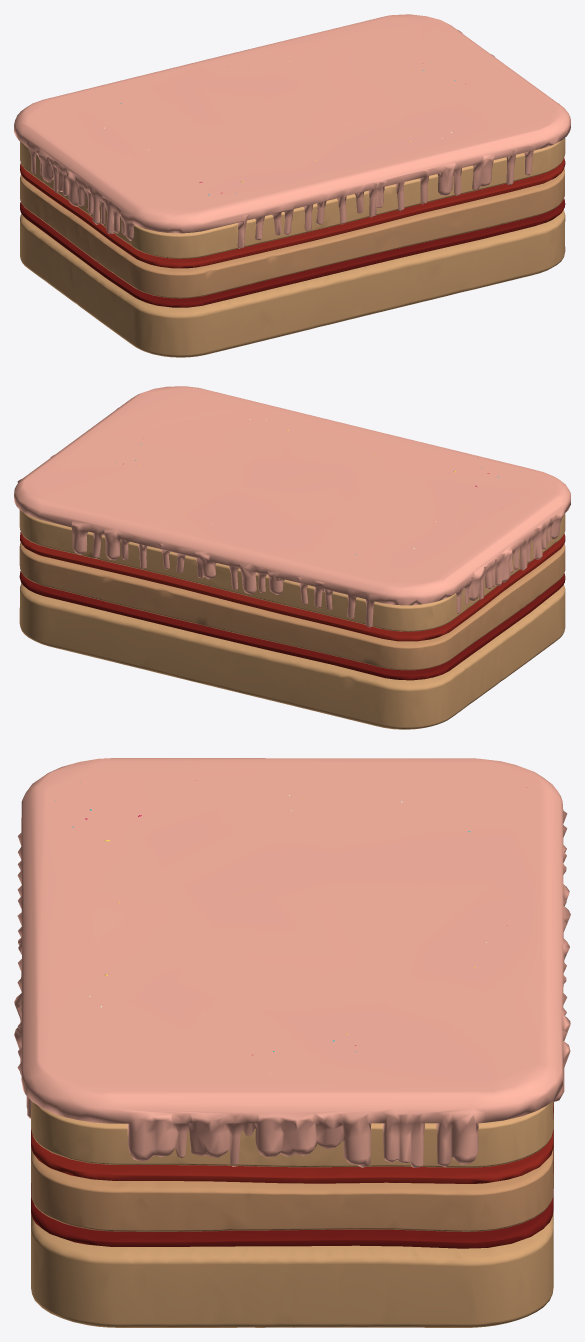
The model's file is cake-mesa-shelf.glb.
3 renders of one model, top to bottom at view 1: azimuth 30°, elevation 25°; view 2: azimuth 150°, elevation 25°; view 3: azimuth 270°, elevation 25°, orthographic. The views are drawn at different scales.
Parts seen in each view (by area): view 1: Rounded poured strawberry frosting.001, Golden sponge bottom.001, Golden sponge lower.001, Golden sponge upper.001, Raspberry jam deep.001, Raspberry jam ribbon.001; view 2: Rounded poured strawberry frosting.001, Golden sponge bottom.001, Golden sponge lower.001, Golden sponge upper.001, Raspberry jam deep.001, Raspberry jam ribbon.001; view 3: Rounded poured strawberry frosting.001, Golden sponge bottom.001, Golden sponge lower.001, Golden sponge upper.001, Raspberry jam deep.001, Raspberry jam ribbon.001.
Boxes of the visible parts, x1,y1,x2,y2 form: Rounded poured strawberry frosting.001: (14,14,570,248); Golden sponge bottom.001: (20,210,565,357); Golden sponge lower.001: (20,168,564,298); Golden sponge upper.001: (20,138,565,258); Raspberry jam deep.001: (20,198,565,307); Raspberry jam ribbon.001: (20,158,565,268); Rounded poured strawberry frosting.001: (14,386,570,627); Golden sponge bottom.001: (19,583,565,729); Golden sponge lower.001: (19,542,565,670); Golden sponge upper.001: (19,510,565,631); Raspberry jam deep.001: (19,571,565,680); Raspberry jam ribbon.001: (20,532,565,641); Rounded poured strawberry frosting.001: (14,758,570,1167); Golden sponge bottom.001: (31,1113,553,1327); Golden sponge lower.001: (31,1147,553,1231); Golden sponge upper.001: (31,1101,553,1167); Raspberry jam deep.001: (31,1102,553,1248); Raspberry jam ribbon.001: (31,1106,553,1183).
Bounding box in the file's own units: 13.17 × 4.2 × 8.73.
